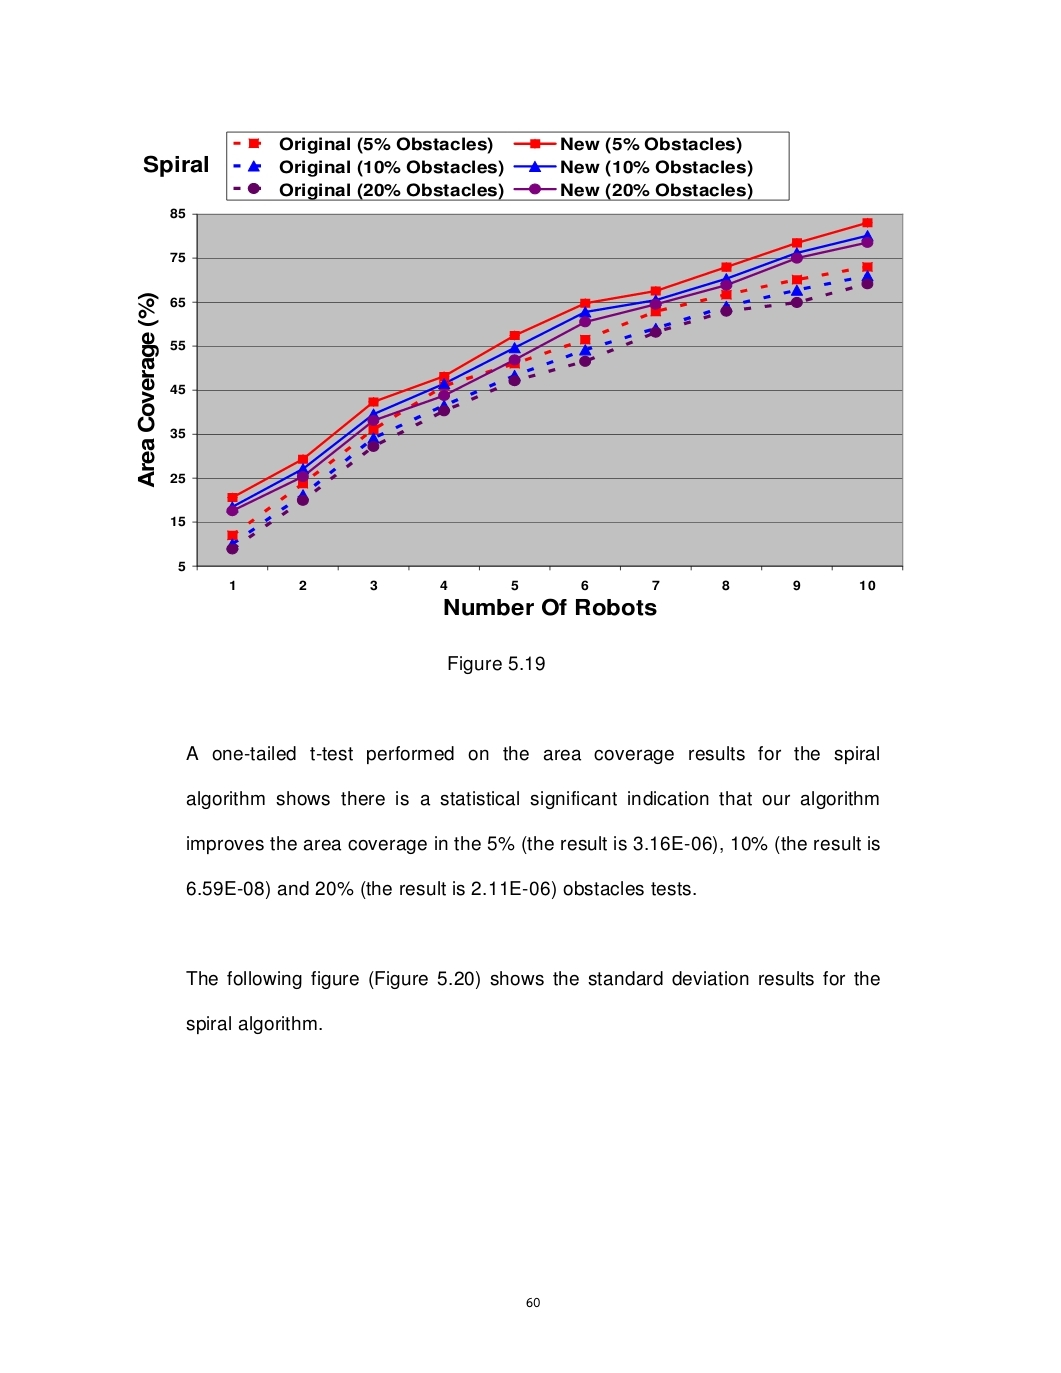figure: (137, 132, 903, 615)
